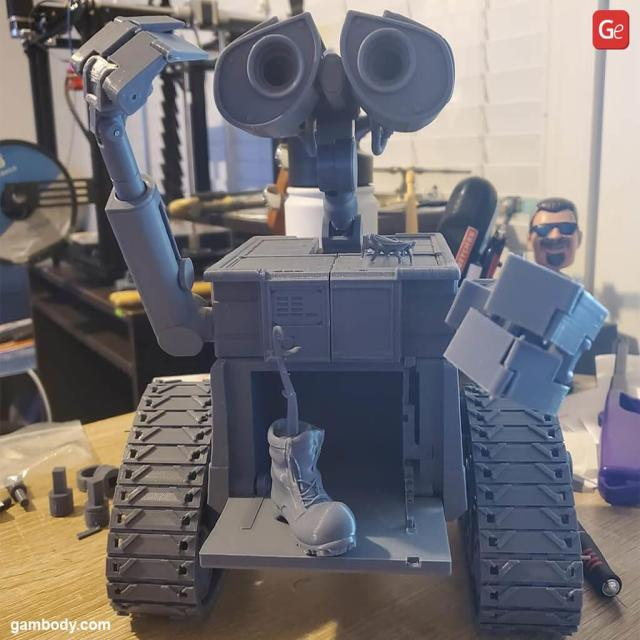Without deffect: (57, 6, 629, 640)
